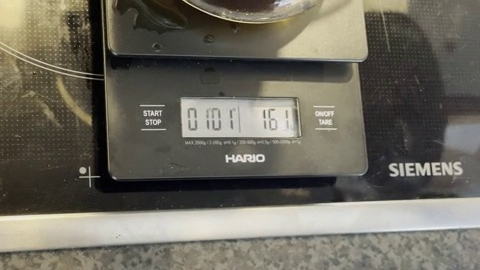display: (179, 97, 298, 136)
